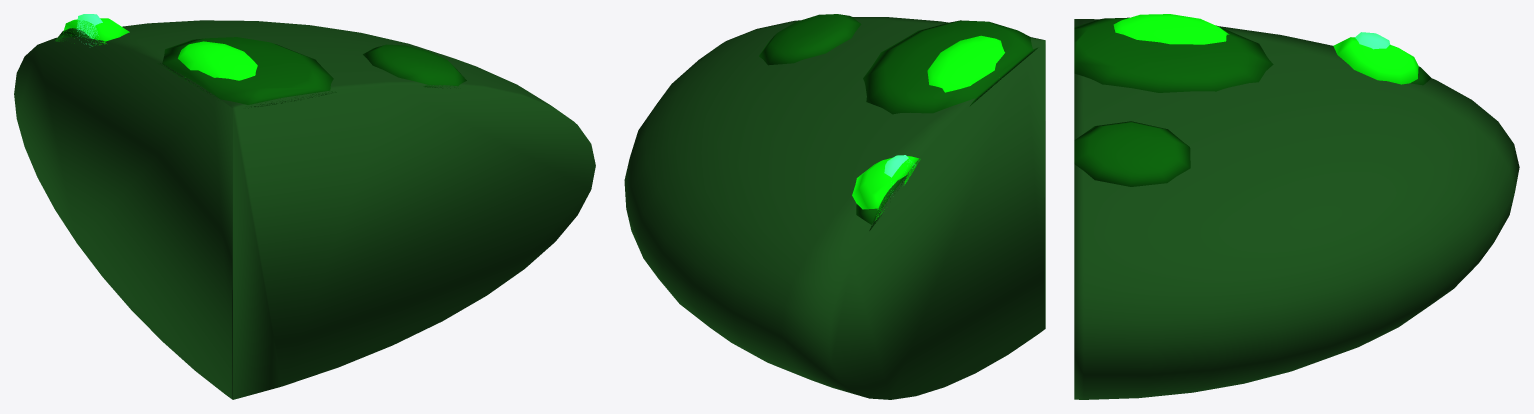
Rendered from newshu-93-f2.glb.
3 views of the same model, side by side, from view 1: azimuth 30°, elevation 25°; view 2: azimuth 150°, elevation 25°; view 3: azimuth 270°, elevation 25° (orthographic). The views are drawn at different scales.
Parts seen in each view (by area): view 1: newshu-93-f2; view 2: newshu-93-f2; view 3: newshu-93-f2.
Part boxes in pixels (x1=…): newshu-93-f2: x1=14, y1=14, x2=595, y2=399; newshu-93-f2: x1=624, y1=14, x2=1045, y2=399; newshu-93-f2: x1=1074, y1=14, x2=1519, y2=399.
Bounding box in the file's own units: 1.88 × 1.51 × 1.96.
